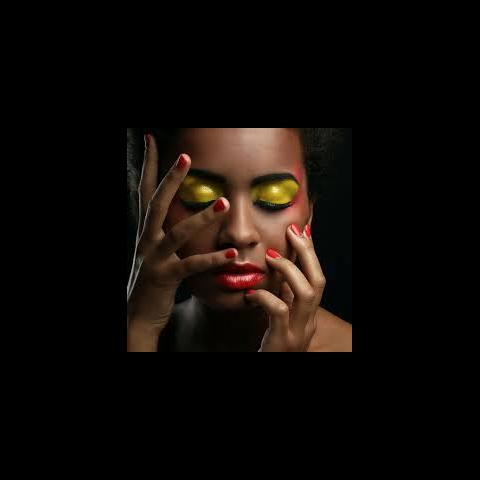closed: (171, 161, 302, 220)
